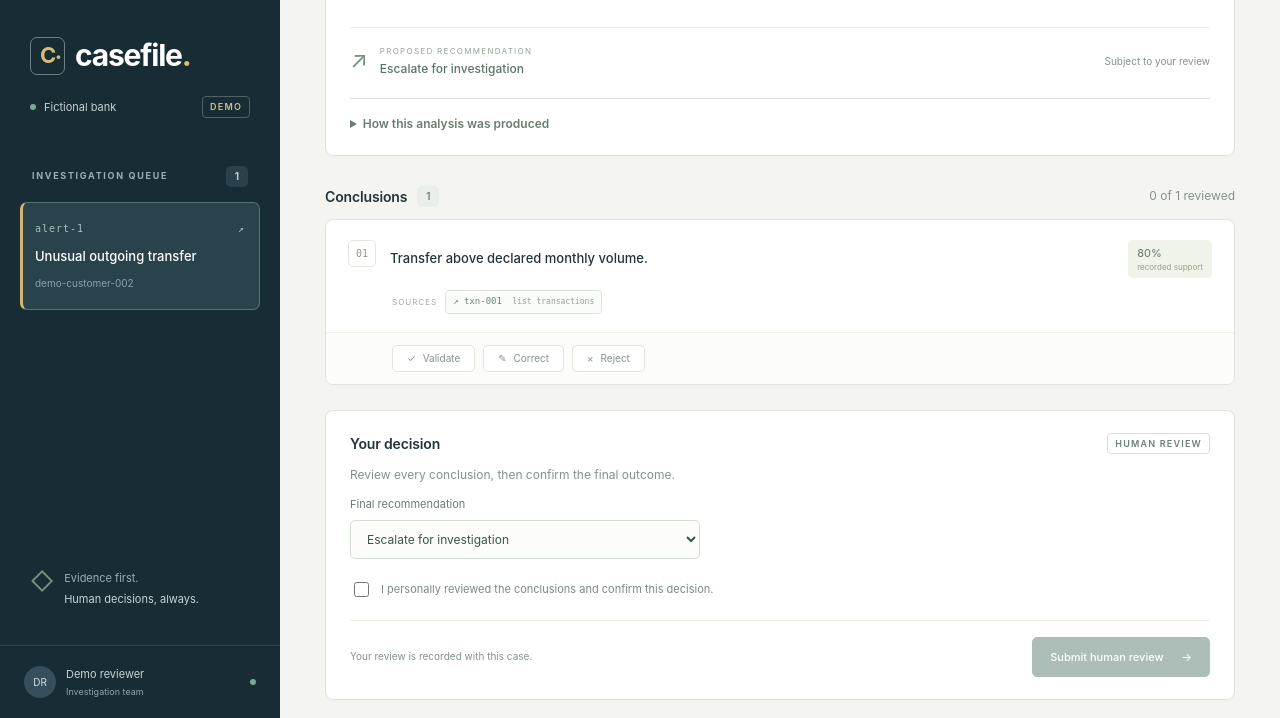
investigation review › requires a rejection reason and surfaces a stale-review error
The width and height of the screenshot is (1280, 718).
(page scrolled)
expect the text "Transfer above declared monthly volume." is shown: met, box [390,250,648,266]
Click the button with aria-label "Reject conclusion 1".
click(608, 358)  # box [572,345,645,372]
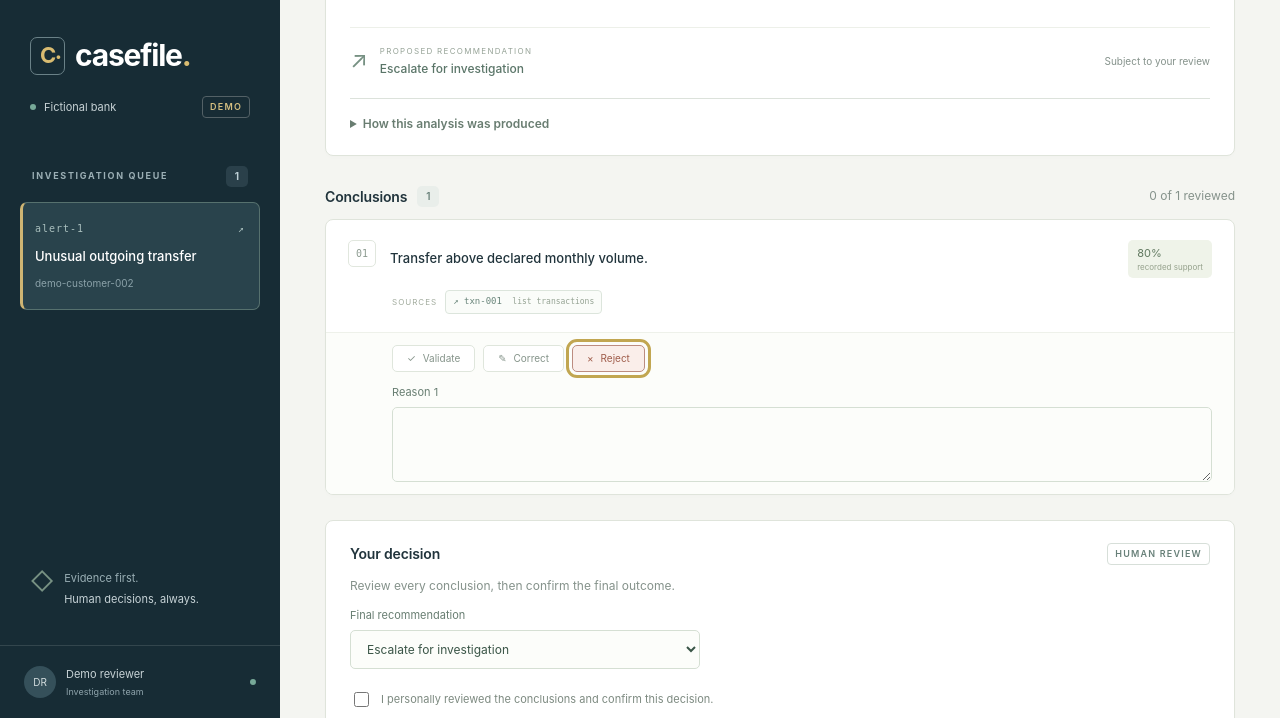
Type "Evidence is insufficient." into the text box labelled "Reason 1".
click(802, 445); type("Evidence is insufficient.")  # box [392,407,1212,482]
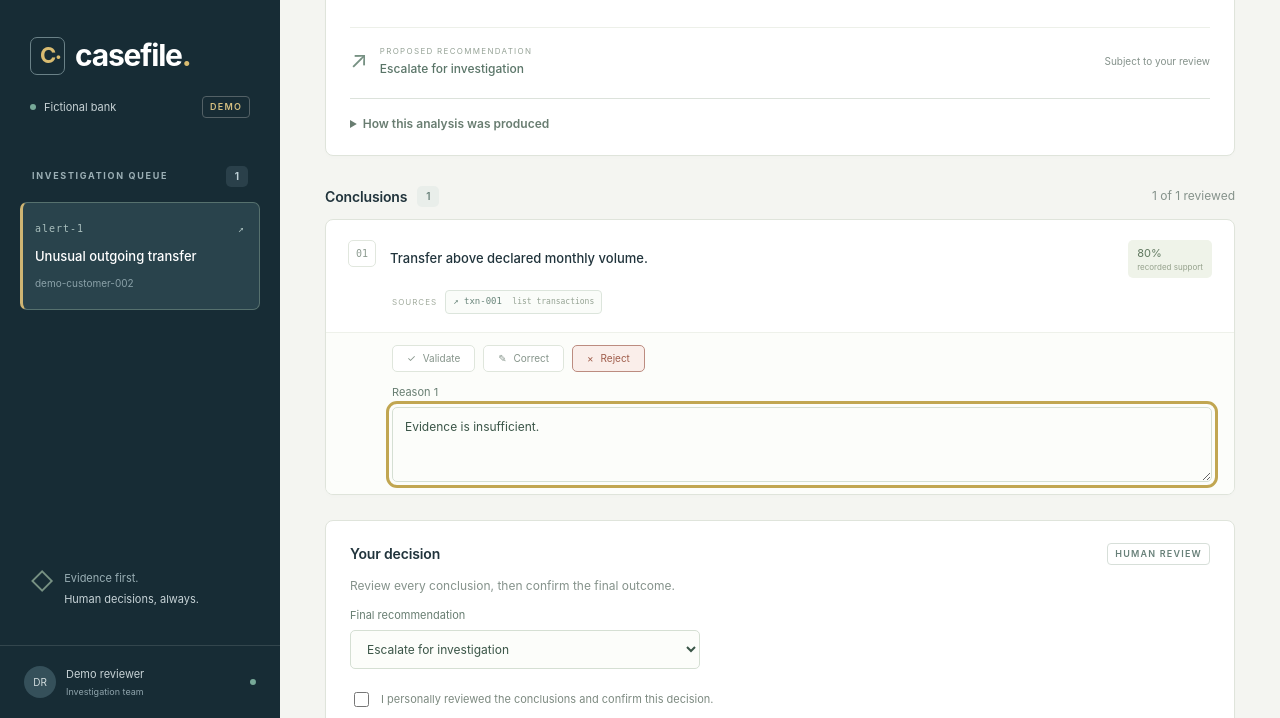
Click the checkbox.
click(362, 700)  # box [354,692,369,707]
(page scrolled)
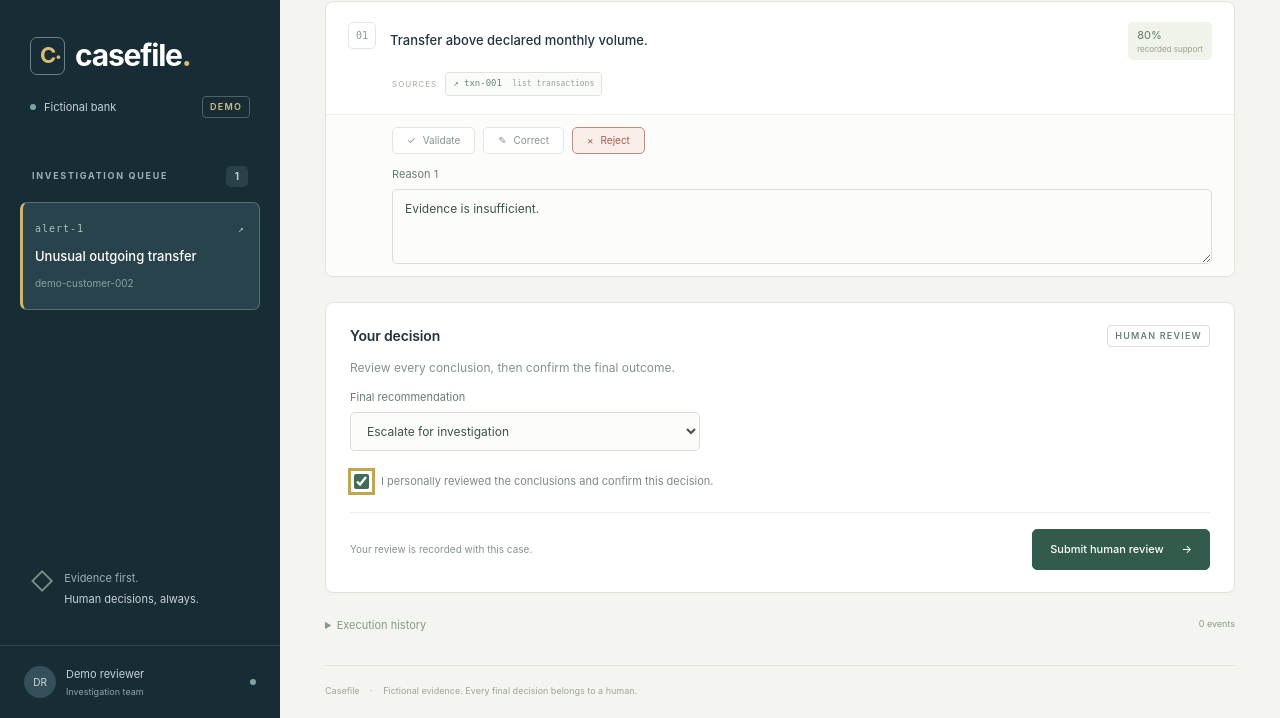
Click the button "Submit human review →".
click(1121, 549)  # box [1032,529,1210,570]
(page scrolled)
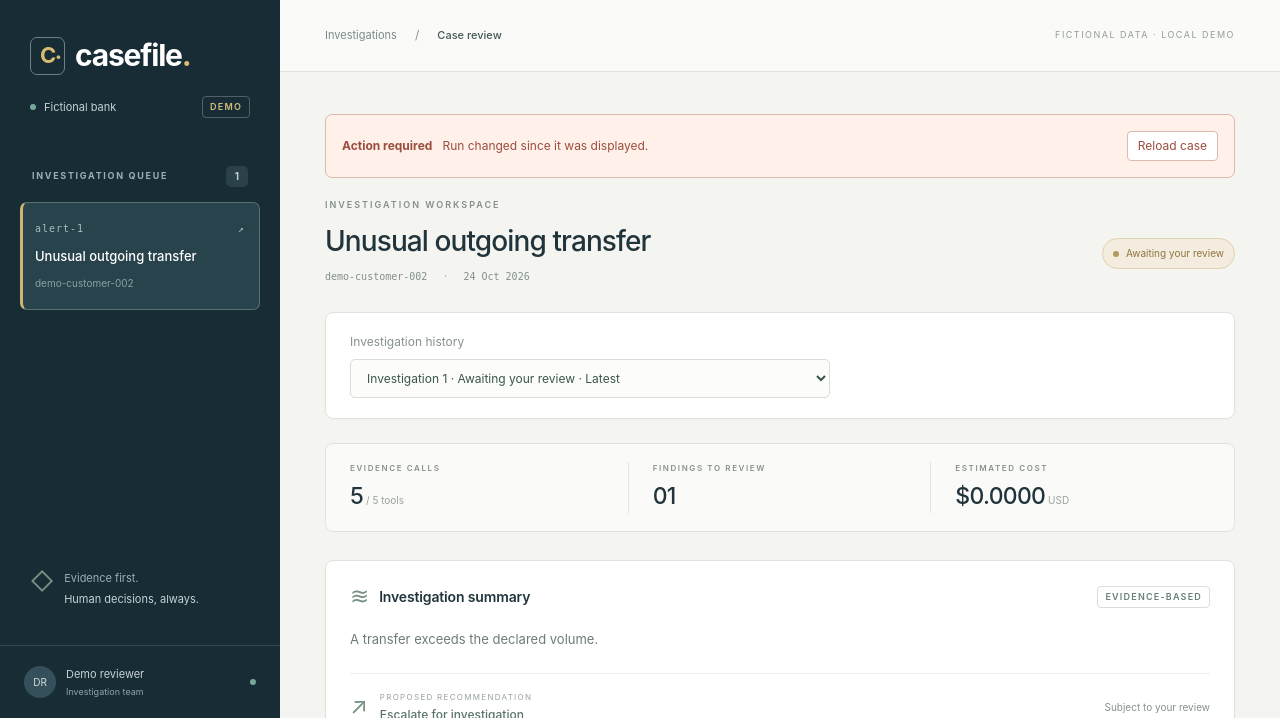
expect the message shows "Run changed": met, box [442,138,648,153]
